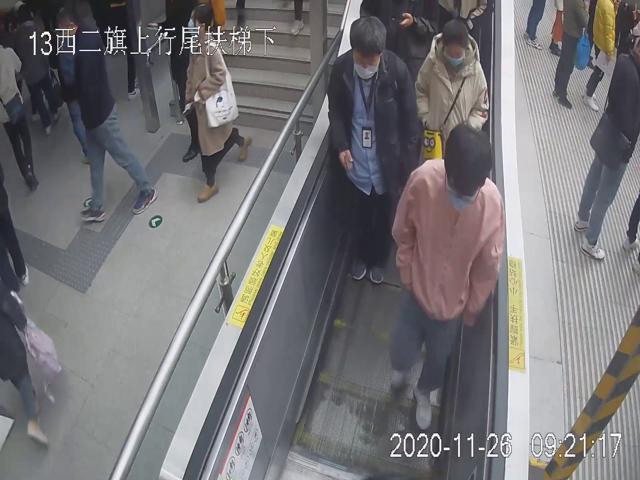person: (386, 124, 506, 430), (328, 12, 422, 287), (182, 0, 251, 204), (415, 16, 489, 162)
